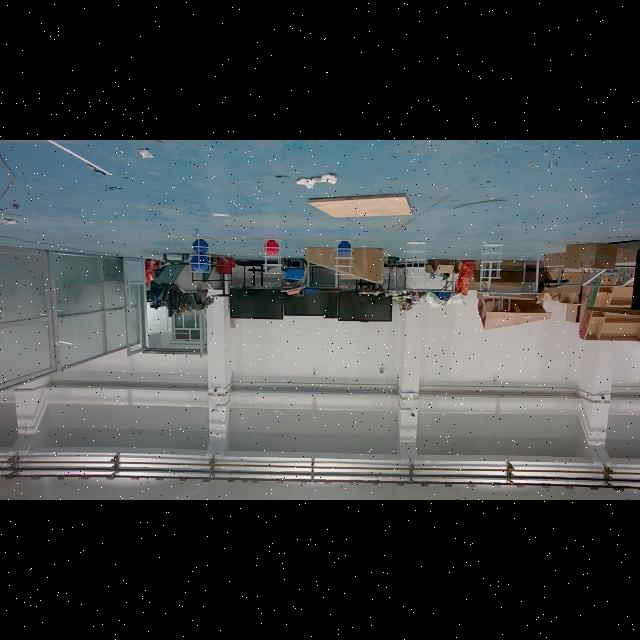B: (188, 254, 208, 270), (190, 239, 210, 253), (336, 242, 354, 254)
R: (263, 240, 283, 254)
S: (185, 234, 215, 276), (258, 235, 286, 278), (402, 240, 430, 278), (479, 241, 505, 281), (332, 236, 354, 278)
